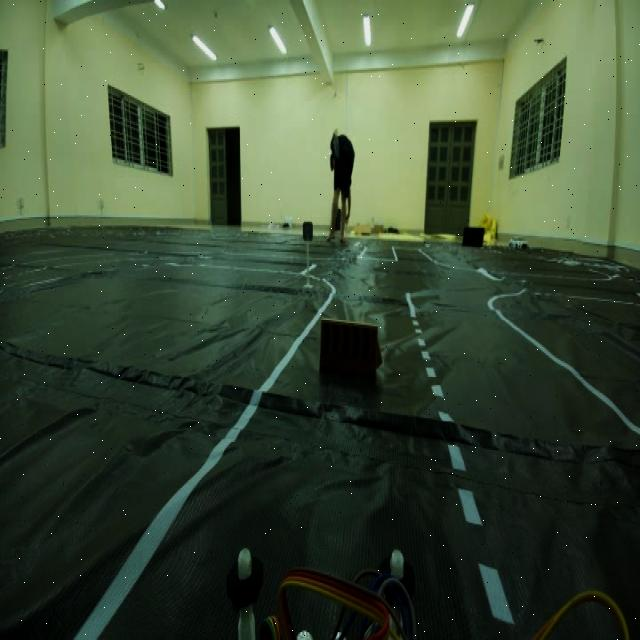roadblock: (317, 304, 388, 398)
